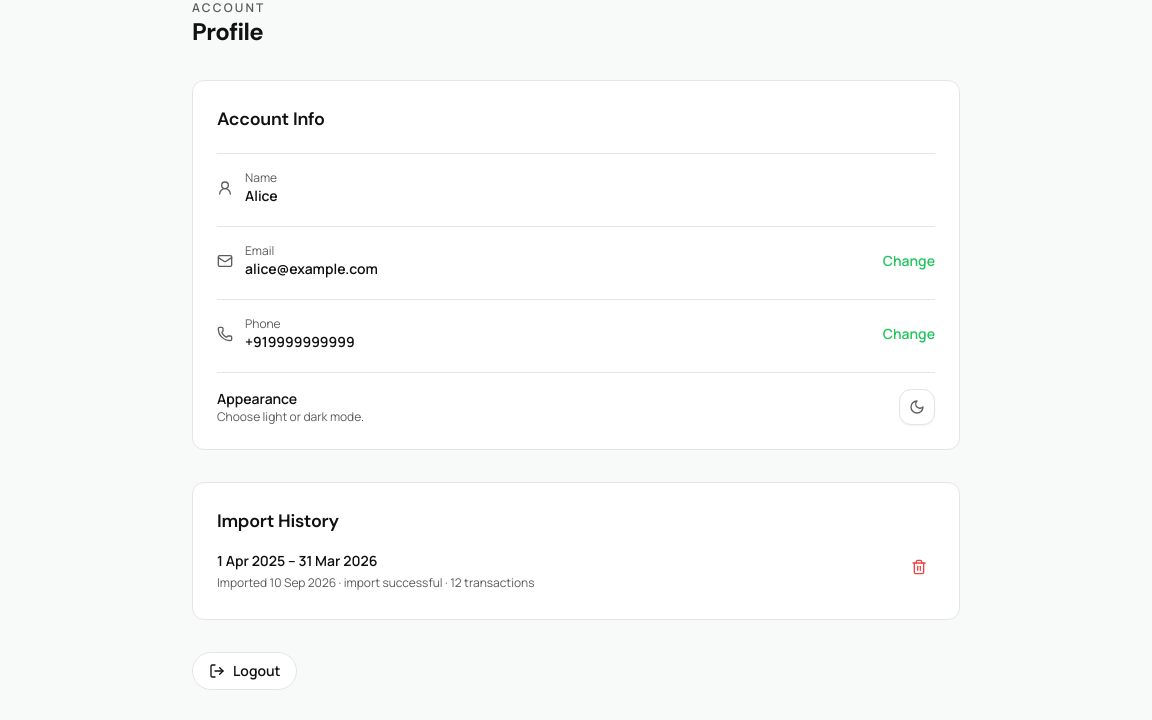
Scenario: ProfileView › lists household imports and explains dashboard versus analytics timing before deletion
The width and height of the screenshot is (1152, 720).
Check: the text "1 Apr 2025 – 31 Mar 2026" is shown, box [217, 551, 377, 570]
Check: the text "12 transactions" is shown, box [450, 574, 534, 591]
Click the button named "Delete import from 10 Sep 2026". click: (919, 567)
box: [903, 551, 935, 583]
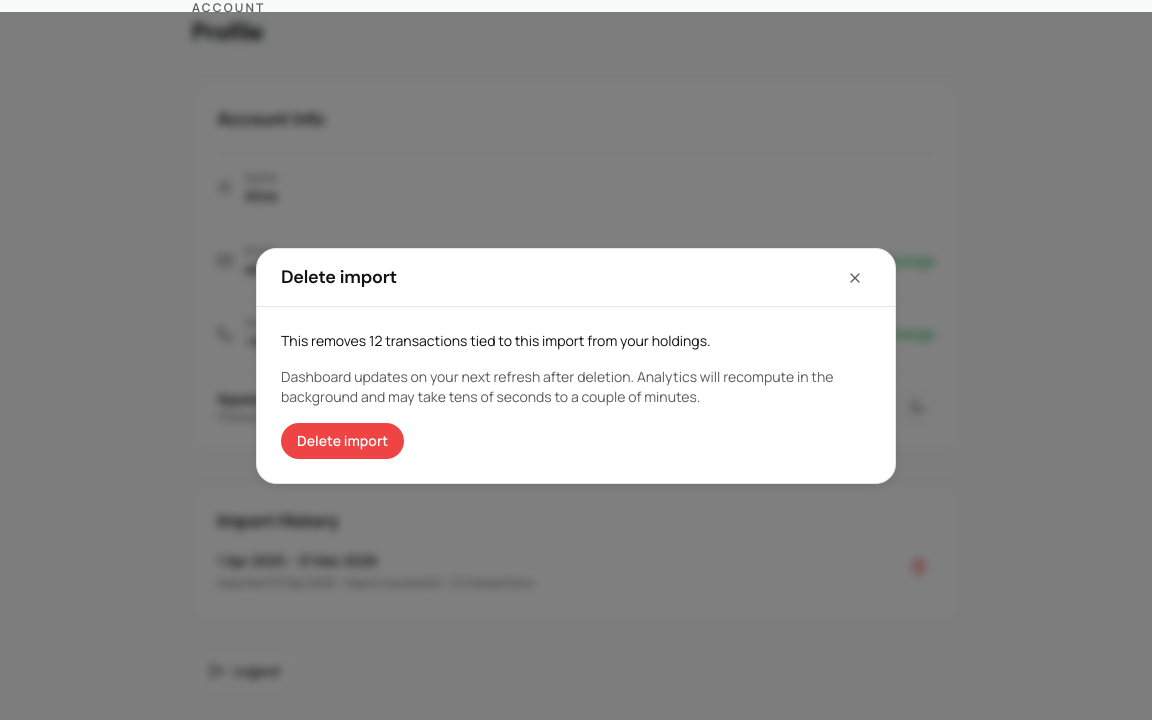
Check: the text "This removes 12 transactions tied to this import from your holdings." is shown, box [281, 331, 711, 350]
Check: the text "Analytics will recompute in the background" is shown, box [281, 367, 833, 406]
Click the button "Delete import". click: (343, 441)
box: [281, 423, 404, 459]
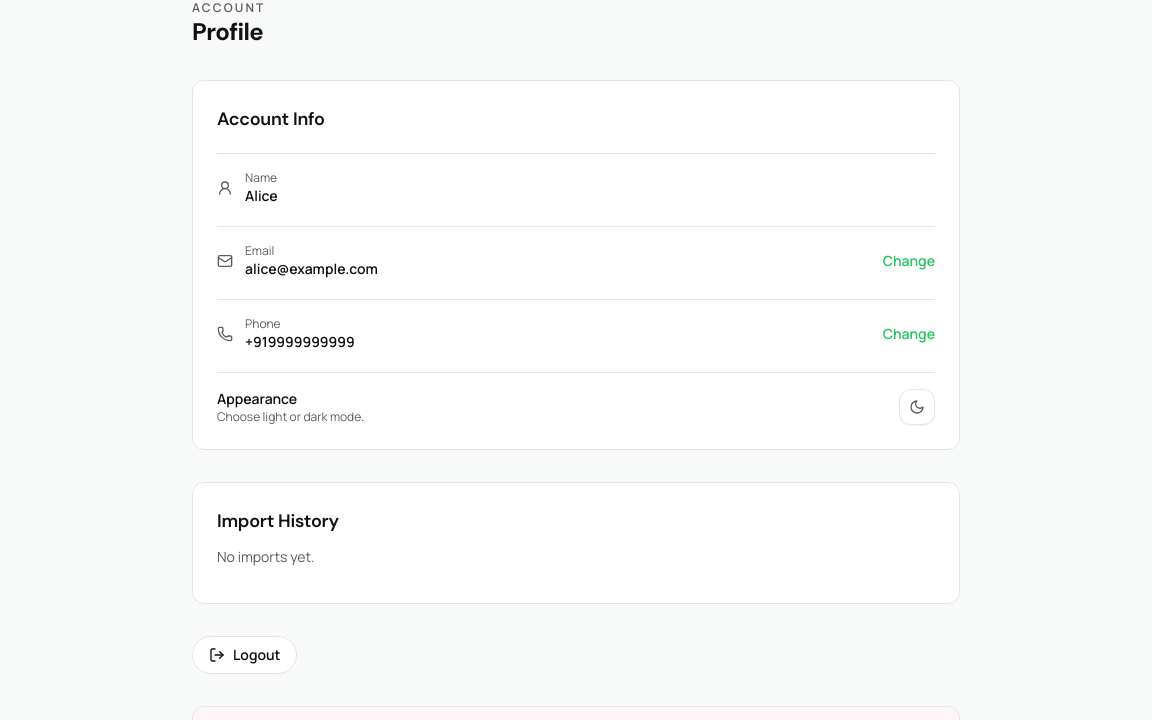
Check: the text "No imports yet." is shown, box [217, 547, 315, 566]
